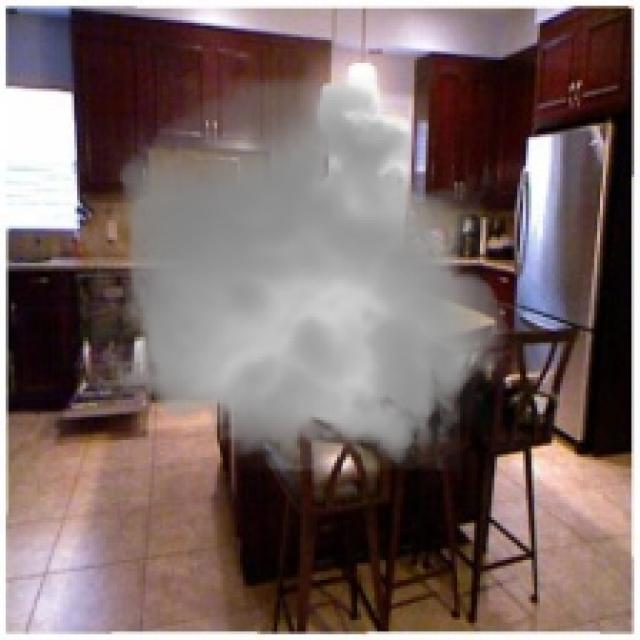Smoke: (97, 62, 523, 488)
